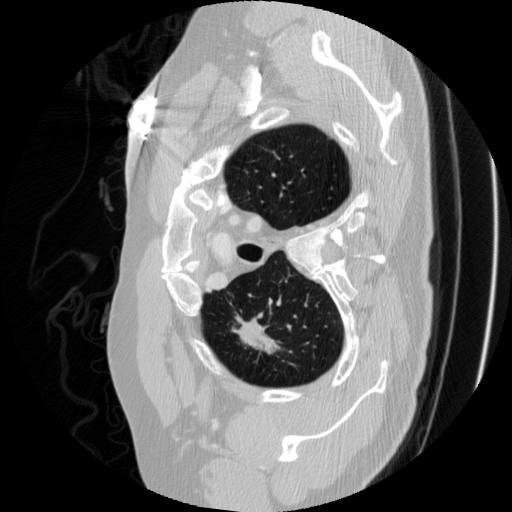nodule: (237, 315, 279, 357)
